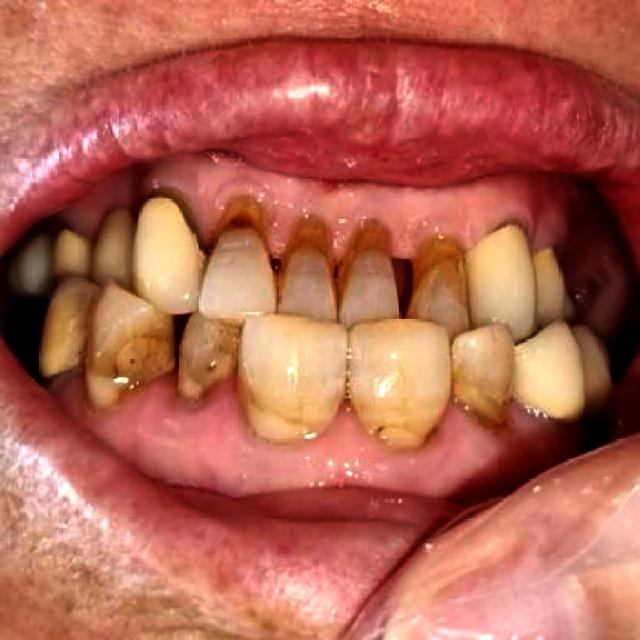Plaque: (107, 330, 174, 388), (182, 329, 240, 393), (452, 381, 522, 429)
